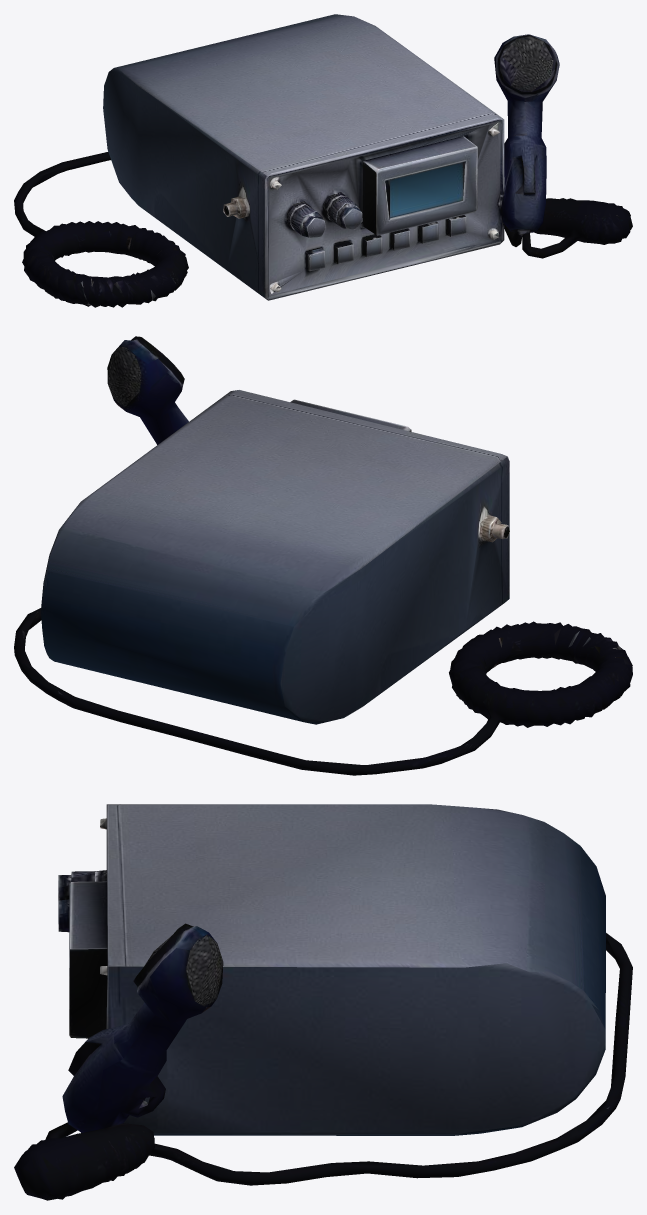
Rendered from radio.glb.
3 views of the same model, one above another, from view 1: azimuth 30°, elevation 25°; view 2: azimuth 150°, elevation 25°; view 3: azimuth 270°, elevation 25° (orthographic). The views are drawn at different scales.
Parts seen in each view (by area): view 1: radio; view 2: radio; view 3: radio.
Part boxes in pixels (bbox=[...]): radio: bbox=[14, 14, 632, 307]; radio: bbox=[14, 336, 632, 775]; radio: bbox=[14, 804, 632, 1200].
Size of the model in its own units: 1 by 0.3439 by 0.7734.
1 material, 1 textured.
